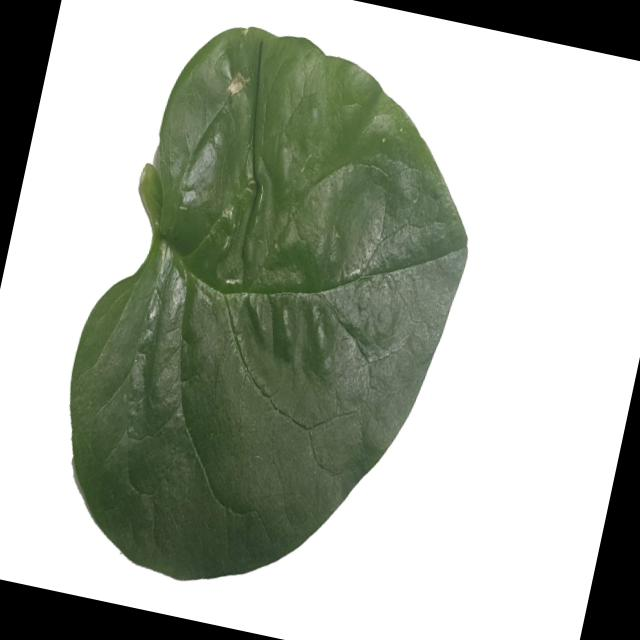Medicinal-Basale: (32, 0, 504, 622)
